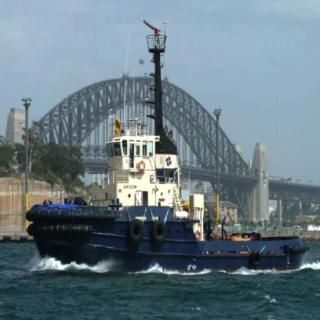Tug Boat: (15, 22, 288, 269)
